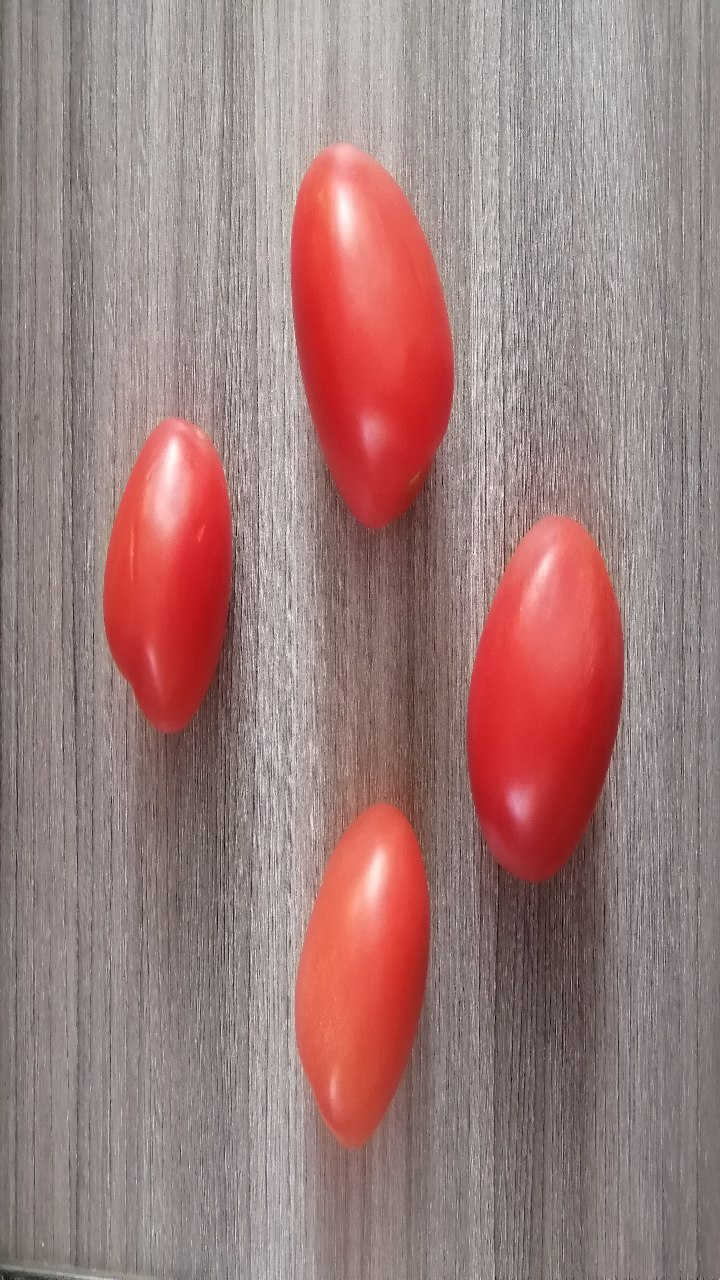tomateRojo: (258, 123, 500, 595), (257, 788, 461, 1151), (457, 492, 632, 914), (88, 394, 255, 759)
